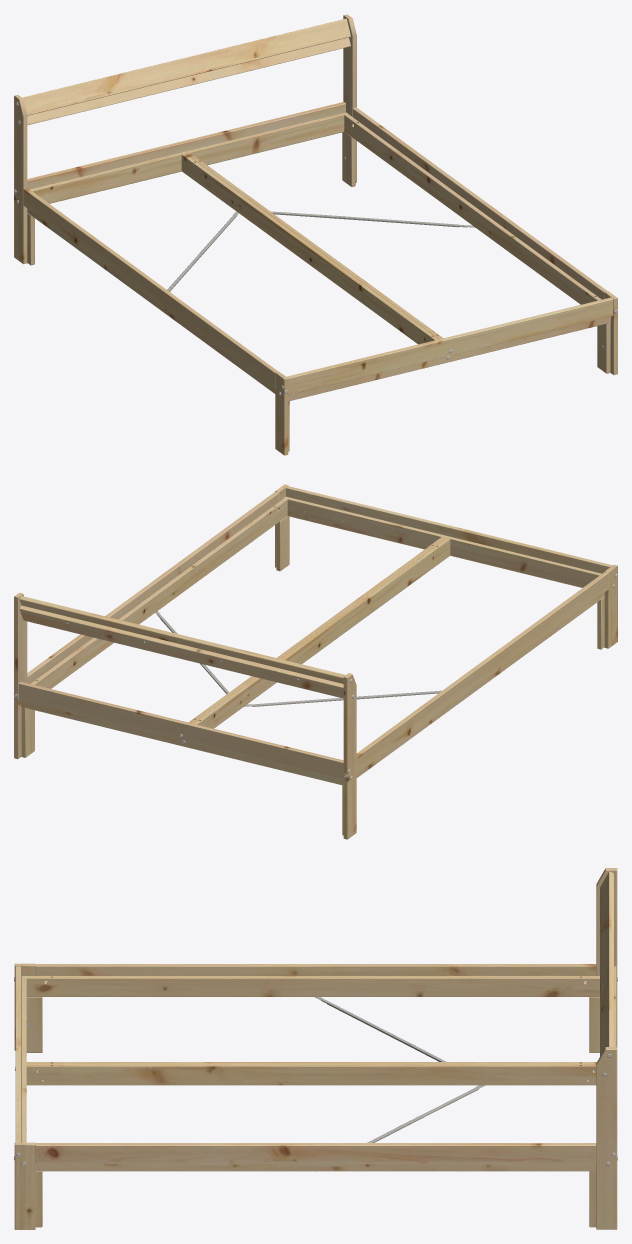
3 views of the same model, one above another, from view 1: azimuth 30°, elevation 25°; view 2: azimuth 150°, elevation 25°; view 3: azimuth 270°, elevation 25° (orthographic). The views are drawn at different scales.
Visible parts, largest first — view 1: Mesh_0; view 2: Mesh_0; view 3: Mesh_0.
Boxes of the visible parts, bbox=[...] form: Mesh_0: bbox=[14, 14, 617, 455]; Mesh_0: bbox=[14, 484, 617, 839]; Mesh_0: bbox=[14, 868, 617, 1229].
Size of the model in its own units: 1.39 by 0.6452 by 1.96.
1 material, 1 textured.
